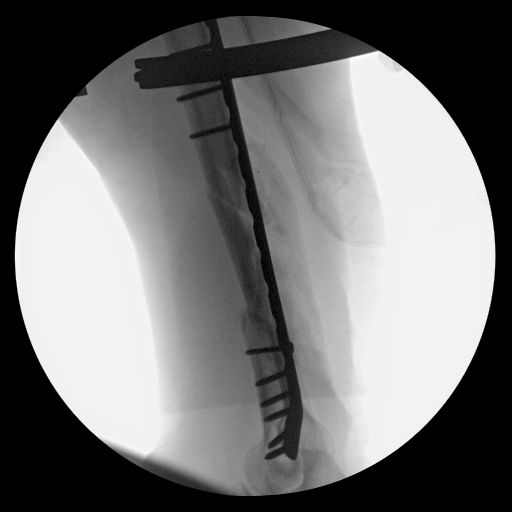implant: (241, 301, 310, 466), (154, 26, 247, 146)
